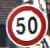Speed Limit -50-: (0, 0, 49, 47)
